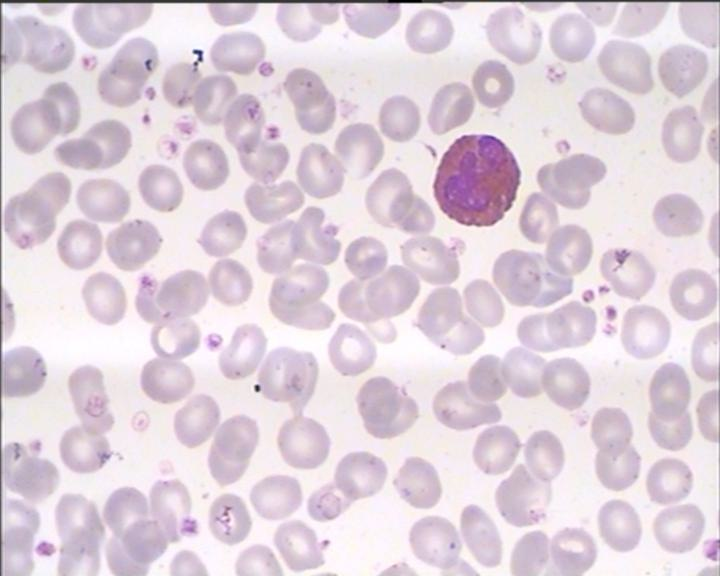eosi: (424, 126, 525, 231)
